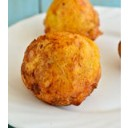bonda: (21, 36, 101, 106), (45, 1, 101, 34)
